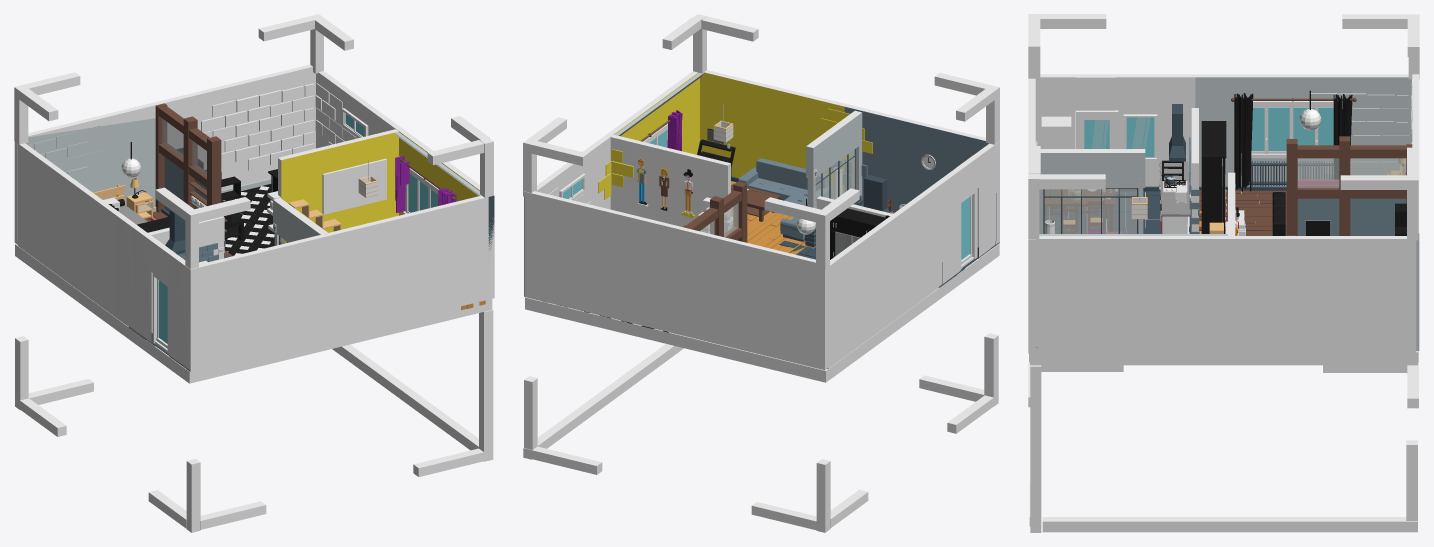
Rendered from house.fbx.
3 renders of one model, left to right at view 1: azimuth 30°, elevation 25°; view 2: azimuth 150°, elevation 25°; view 3: azimuth 270°, elevation 25°, orthographic. The views are drawn at different scales.
Visible parts, largest first — view 1: group363973652, group1844361857, group1094695330, group1550486021, group1932108321, group354758620, group1586212797, group1324070420, group213206785, group15721405, group927286882, group66530967 (+33 smaller); view 2: group1844361857, group363973652, group1094695330, group1932108321, group1550486021, group354758620, group1586212797, group1602932282, group1257611146, group1676114578, group15721405, group66530967 (+28 smaller); view 3: group354758620, group1094695330, group1586212797, group1550486021, group311681087, group754265441, group1257611146, group1724631684, group92168382, group66530967, group823605668, group123486762 (+35 smaller).
Part boxes in pixels (x1,y1,x2,y2): group363973652: (186, 195, 494, 372); group1844361857: (14, 64, 315, 245); group1094695330: (18, 143, 120, 316); group1550486021: (15, 186, 492, 383); group1932108321: (278, 129, 398, 243); group354758620: (316, 71, 494, 249); group1586212797: (332, 344, 478, 450); group1324070420: (322, 158, 386, 214); group213206785: (479, 309, 493, 461); group15721405: (133, 226, 156, 342); group927286882: (28, 125, 101, 180); group66530967: (115, 213, 138, 328); group1844361857: (524, 191, 829, 370); group363973652: (700, 70, 999, 246); group1094695330: (827, 194, 925, 368); group1932108321: (610, 135, 730, 233); group1550486021: (525, 244, 999, 382); group354758620: (524, 71, 699, 296); group1586212797: (523, 344, 683, 459); group1602932282: (738, 158, 832, 205); group1257611146: (806, 110, 862, 179); group1676114578: (973, 143, 996, 258); group15721405: (938, 168, 960, 283); group66530967: (920, 181, 942, 297); group354758620: (1035, 236, 1416, 352); group1094695330: (1195, 74, 1411, 190); group1586212797: (1042, 517, 1417, 532); group1550486021: (1030, 192, 1417, 365); group311681087: (1309, 93, 1409, 173); group754265441: (1241, 101, 1342, 158); group1257611146: (1040, 149, 1145, 187); group1724631684: (1044, 197, 1136, 233); group92168382: (1297, 198, 1406, 235); group66530967: (1155, 74, 1195, 191); group823605668: (1201, 121, 1226, 233); group123486762: (1297, 158, 1406, 187).
Size of the model in its own units: 999 by 1000 by 998.
